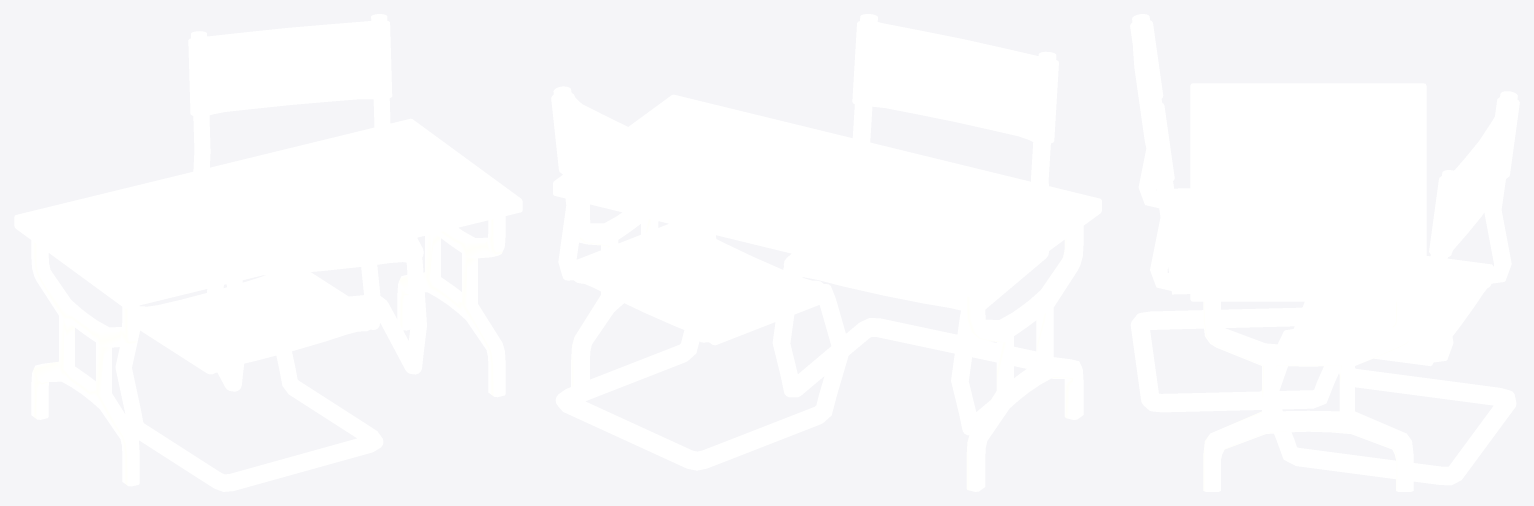
Rendered from DeskChair_2.glb.
3 renders of one model, left to right at view 1: azimuth 30°, elevation 25°; view 2: azimuth 150°, elevation 25°; view 3: azimuth 270°, elevation 25°, orthographic. The views are drawn at different scales.
Parts seen in each view (by area): view 1: DeskChair_2; view 2: DeskChair_2; view 3: DeskChair_2.
Part boxes in pixels (x1,y1,x2,y2): DeskChair_2: [14, 14, 522, 491]; DeskChair_2: [551, 14, 1101, 491]; DeskChair_2: [1130, 14, 1519, 491].
Size of the model in its own units: 1.54 by 1.09 by 1.23.
